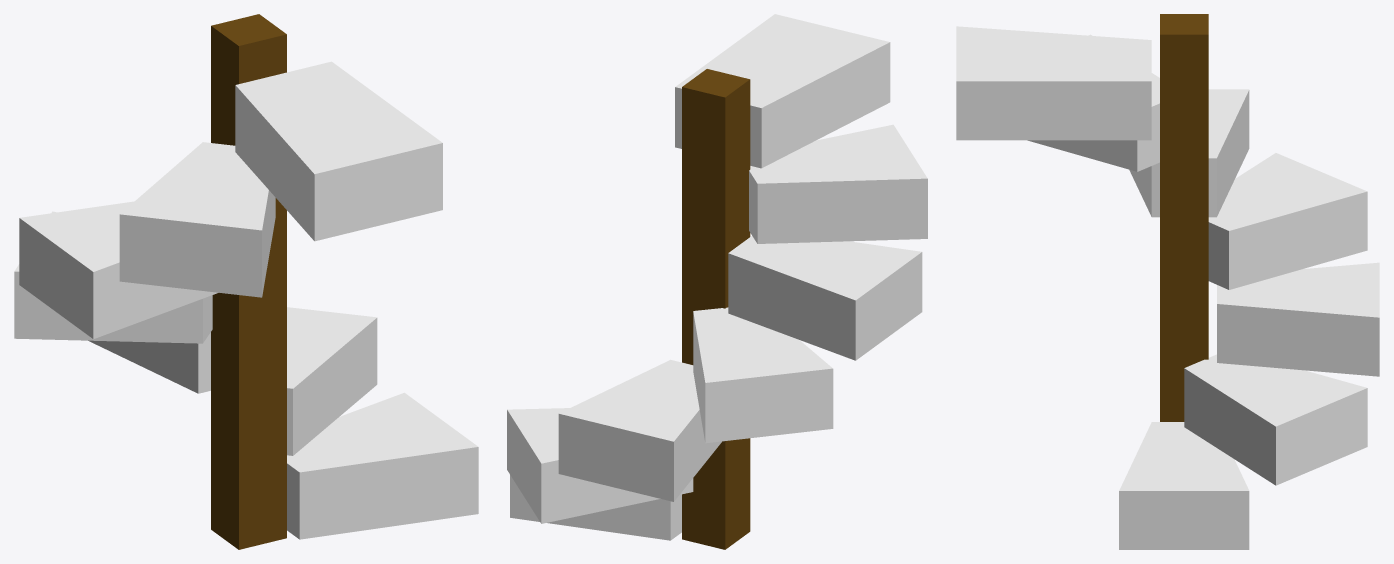
3 views of the same model, side by side, from view 1: azimuth 30°, elevation 25°; view 2: azimuth 150°, elevation 25°; view 3: azimuth 270°, elevation 25° (orthographic). The views are drawn at different scales.
Bounding box in the file's own units: 192 × 240 × 208.
Materials: 1 (1 with a texture image).
